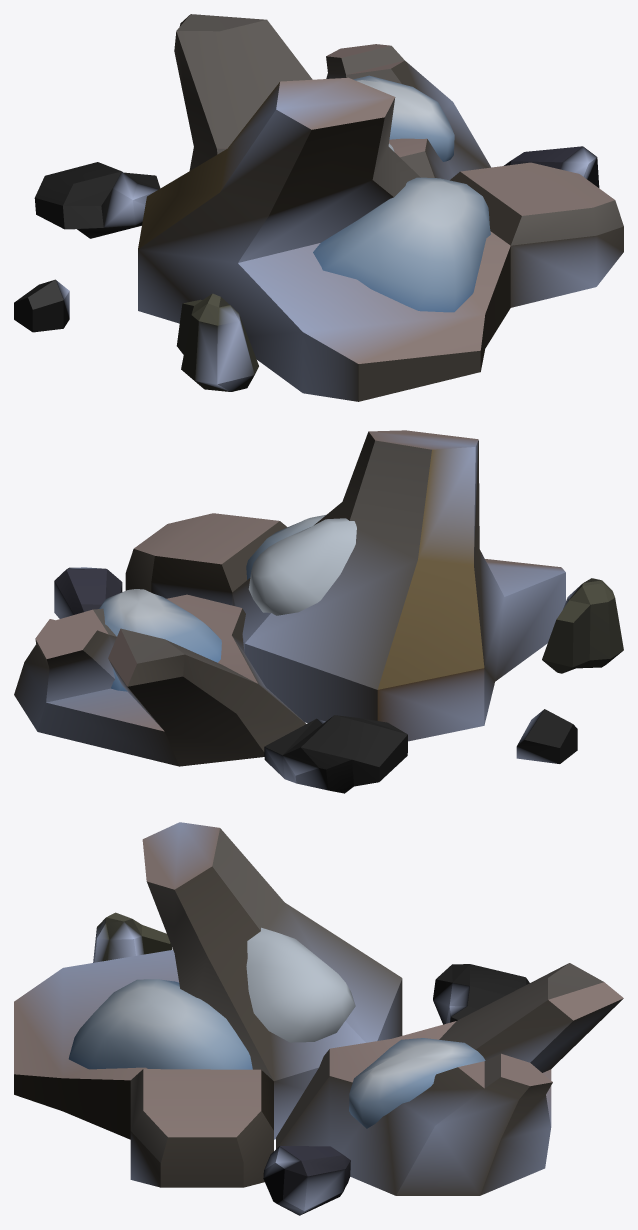
The model's file is Rock_003.fbx.
3 views of the same model, one above another, from view 1: azimuth 30°, elevation 25°; view 2: azimuth 150°, elevation 25°; view 3: azimuth 270°, elevation 25° (orthographic). The views are drawn at different scales.
Visible parts, largest first — view 1: Rock_003; view 2: Rock_003; view 3: Rock_003.
Part boxes in pixels (x1=…): Rock_003: x1=14, y1=14, x2=623, y2=401; Rock_003: x1=14, y1=430, x2=623, y2=793; Rock_003: x1=14, y1=822, x2=623, y2=1215.
Bounding box in the file's own units: 3137 × 1278 × 3112.
